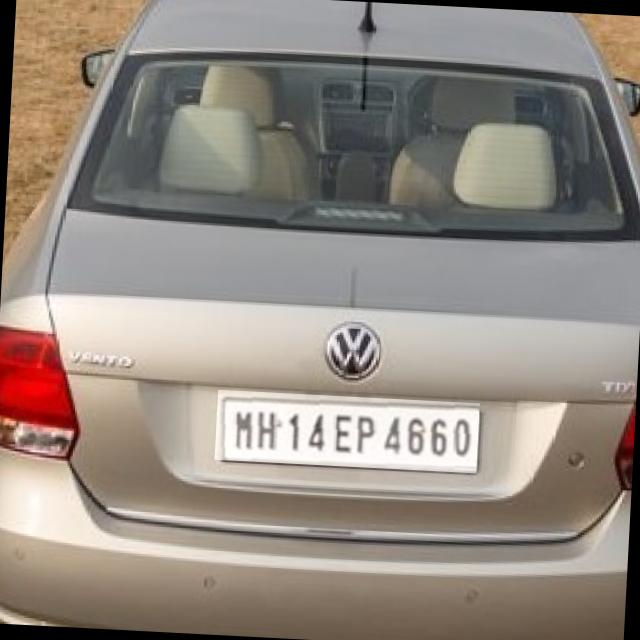Plate: (216, 391, 481, 475)
